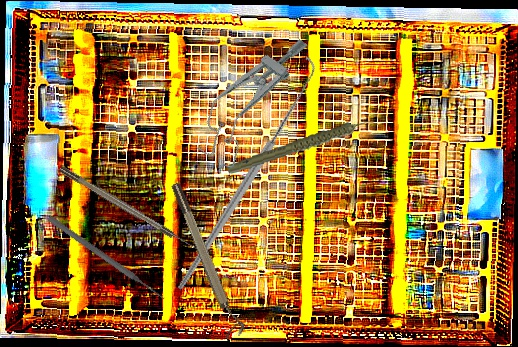Fixation Ring: (168, 178, 248, 341)
Handpiece: (224, 118, 382, 176)
Hook Surgical: (111, 56, 379, 292), (58, 164, 198, 253)
Pusher: (46, 214, 167, 303)
Speculum: (184, 19, 318, 174)
